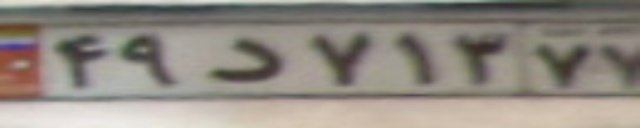1: (393, 32, 434, 85)
3: (457, 33, 508, 84)
4: (53, 34, 108, 88)
7: (309, 31, 372, 86), (535, 40, 593, 88), (601, 43, 639, 89)
9: (117, 33, 176, 85)
dal: (204, 37, 284, 81)
